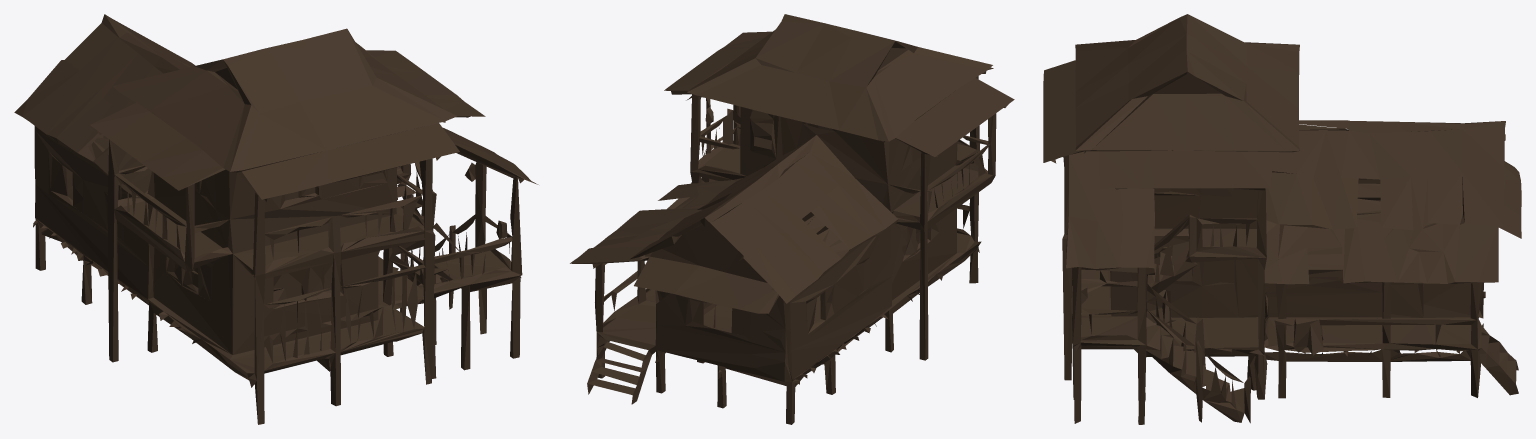
Rendered from rusty-house.zfix-v14.lod1.glb.
3 renders of one model, left to right at view 1: azimuth 30°, elevation 25°; view 2: azimuth 150°, elevation 25°; view 3: azimuth 270°, elevation 25°, orthographic. The views are drawn at different scales.
Visible parts, largest first — view 1: Object_4; view 2: Object_4; view 3: Object_4.
Part boxes in pixels (x1,y1,x2,y2): Object_4: (14,14,538,424); Object_4: (570,14,1014,424); Object_4: (1043,14,1521,424).
Bounding box in the file's own units: 7.95 × 6.92 × 9.99.
